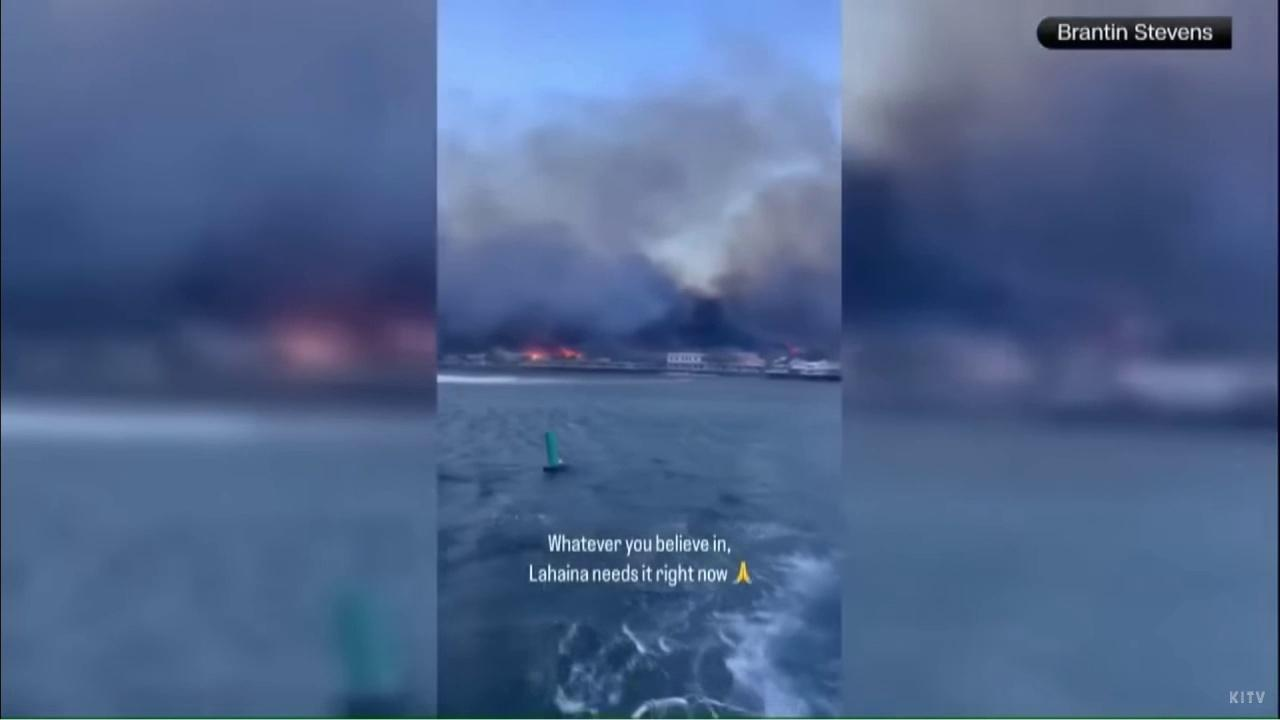fire: (520, 344, 584, 362), (786, 342, 800, 356)
smoke: (437, 35, 842, 359)
